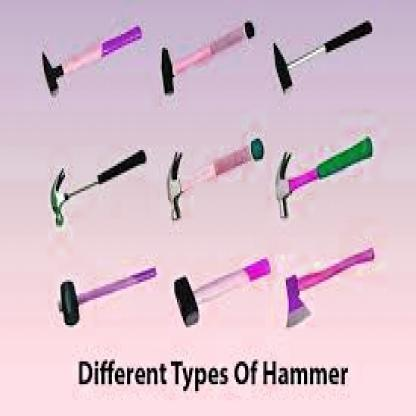Hammer: (164, 130, 268, 226), (272, 130, 378, 224), (39, 18, 149, 104), (282, 239, 379, 331), (270, 16, 376, 100), (48, 145, 151, 229), (158, 14, 258, 98), (171, 251, 276, 331), (55, 258, 163, 332)
